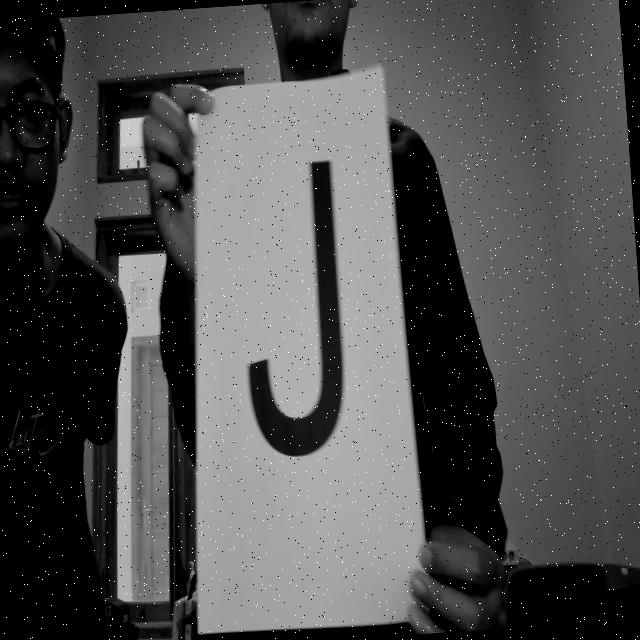j: (211, 134, 394, 498)
